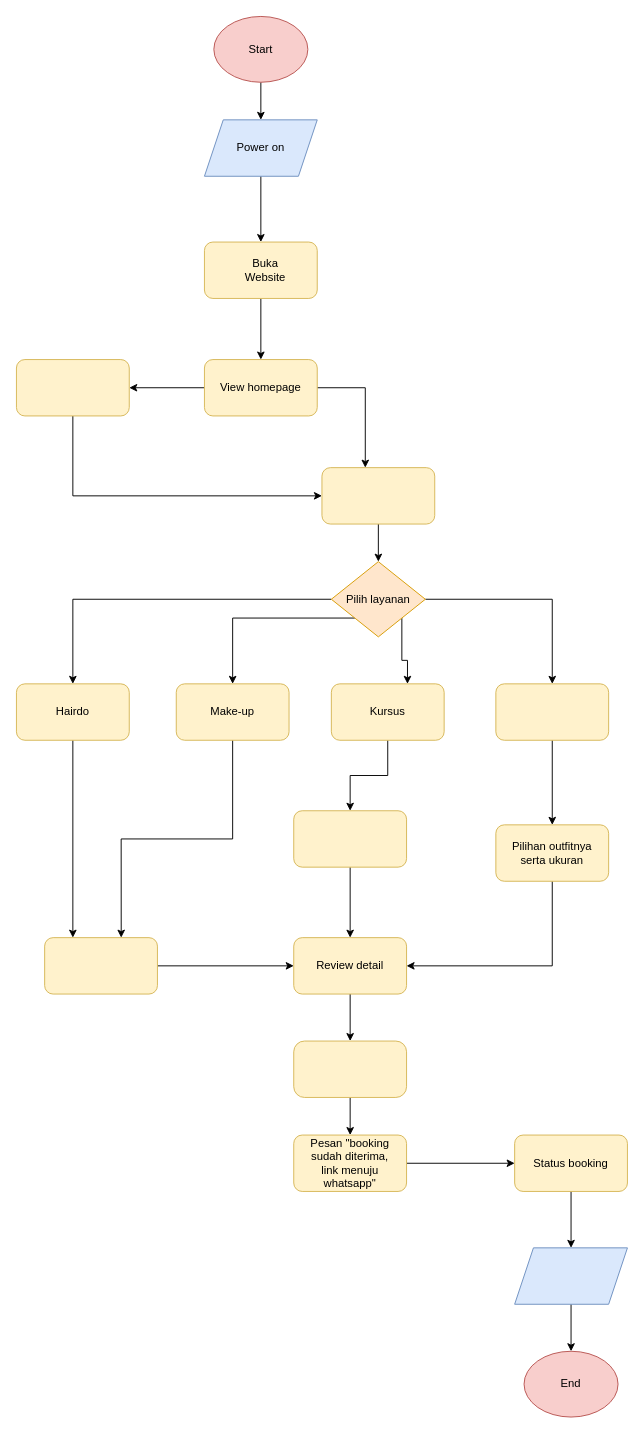
This 644x1434 diagram has some shape labels left out. Here are the shapes that lost their labels. From the top down, the box of each, then its label:
(16, 359, 129, 416): Popup detail baju pilihan
(321, 467, 435, 524): Isi forum
(495, 683, 609, 740): Sewa Baju
(293, 810, 407, 867): Informasi kursus
(44, 937, 157, 994): Detail Layanan
(293, 1040, 407, 1097): Submit booking
(514, 1247, 627, 1304): Power off
